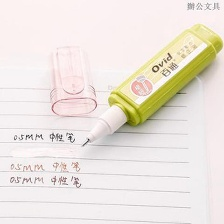correction_fluid: (76, 19, 224, 150)
